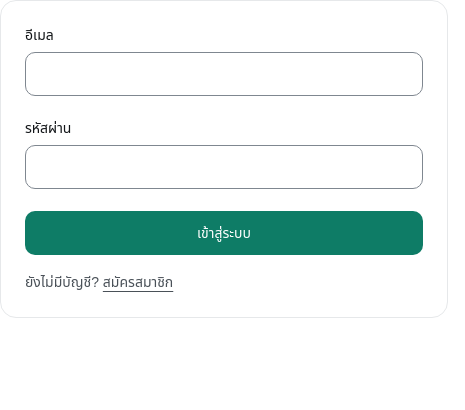
SignInForm › maps 429 RATE_LIMITED to Thai copy
Type "a@example.com" into the field labelled "อีเมล". click: (224, 74)
box: [25,52,423,96]
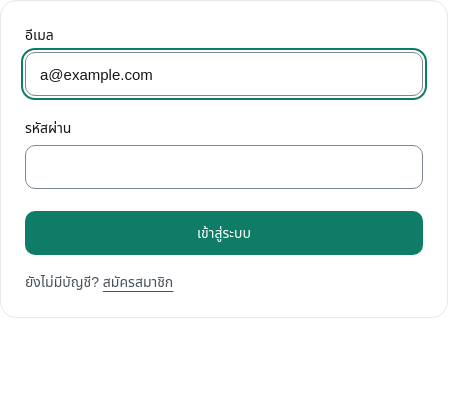
Type "secret" into the password field labelled "รหัสผ่าน". click: (224, 167)
box: [25,145,423,189]
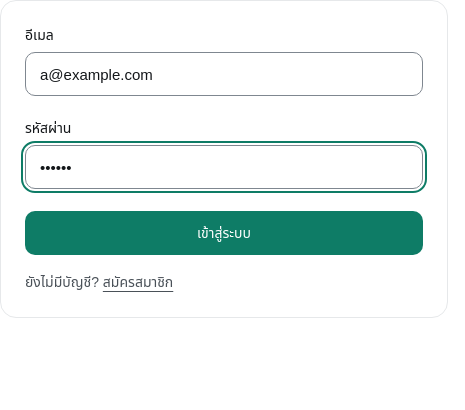
Click the button "เข้าสู่ระบบ". click: (224, 233)
box: [25,211,423,255]
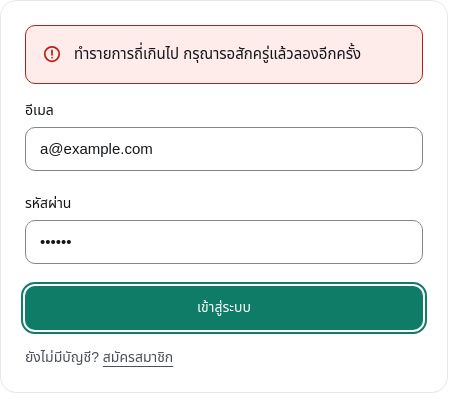
Expected: the text "ทำรายการถี่เกินไป กรุณารอสักครู่แล้วลองอีกครั้ง" is shown, [74,42,406,67]
